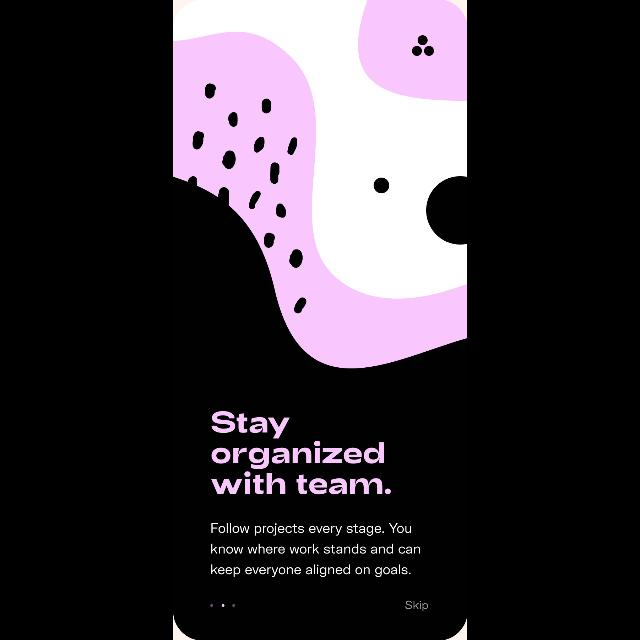backgroundimage: (174, 2, 468, 640)
pageindicator: (210, 604, 236, 606)
text: (211, 412, 391, 494), (212, 523, 420, 577), (406, 600, 428, 612)
